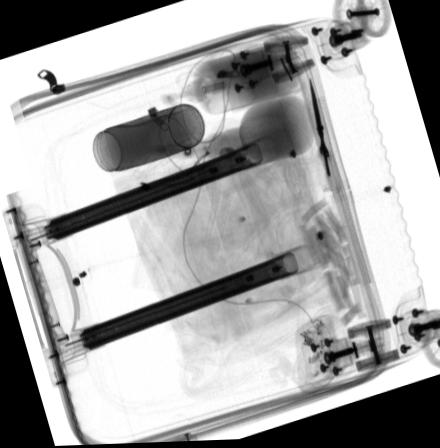Scissors: (307, 77, 343, 196)
